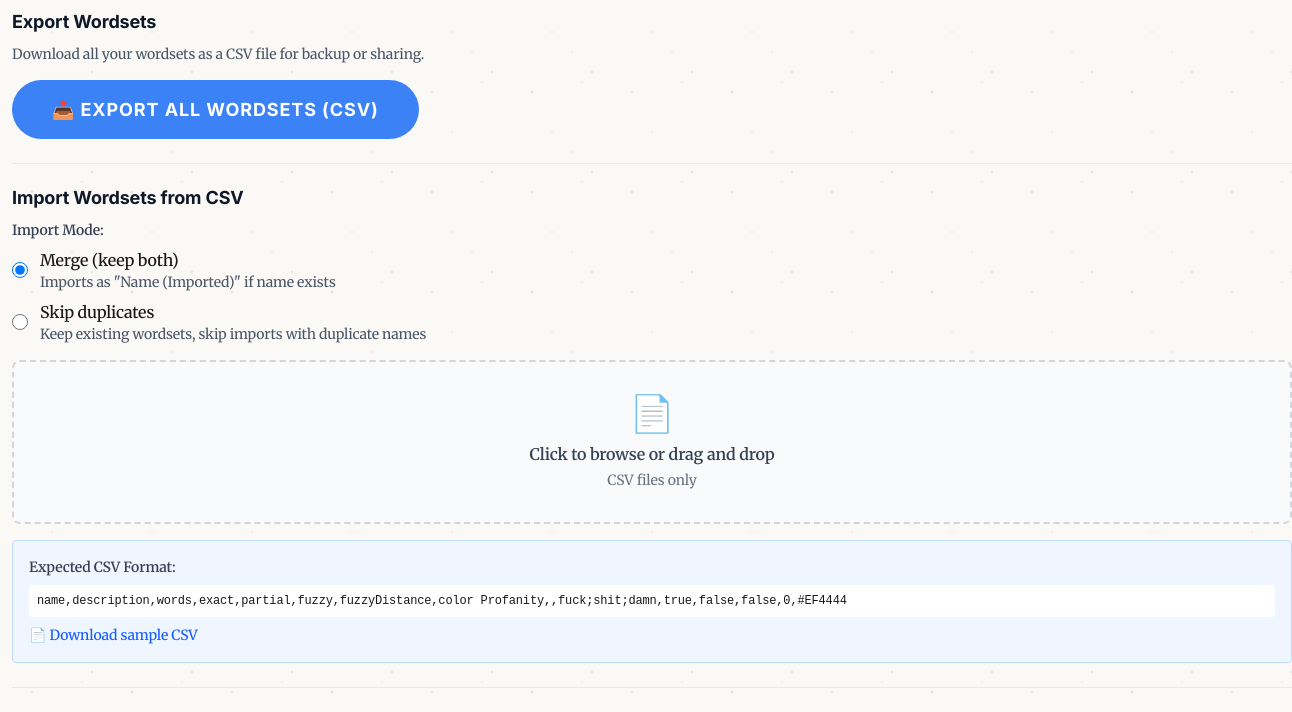
Test: WordsetImportExport › Import Mode Selection › switches from merge to skip mode
Expected: the radio button labelled "Merge (keep both)" is checked, [12,262,28,278]
Click the radio button labelled "Skip duplicates": coordinates (20, 322) [12,314,28,330]
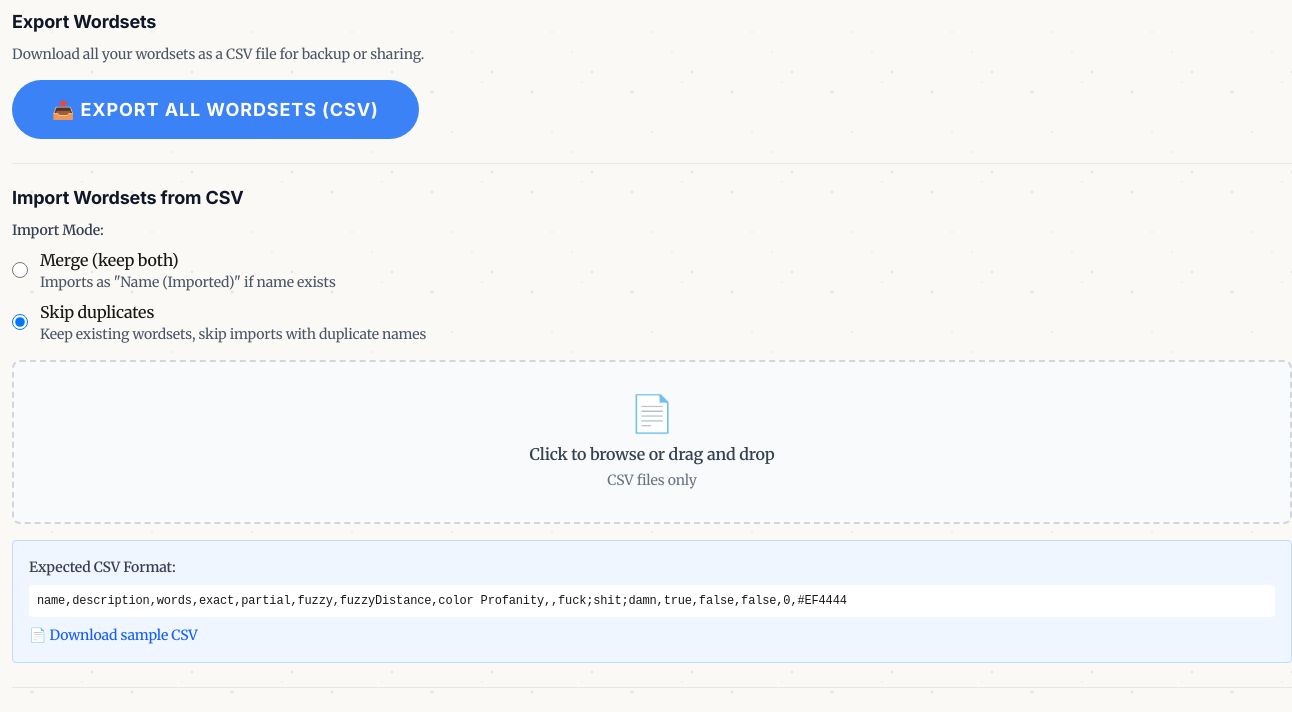
Expected: the radio button labelled "Skip duplicates" is checked, [12,314,28,330]
Expected: the radio button labelled "Merge (keep both)" is not checked, [12,262,28,278]
